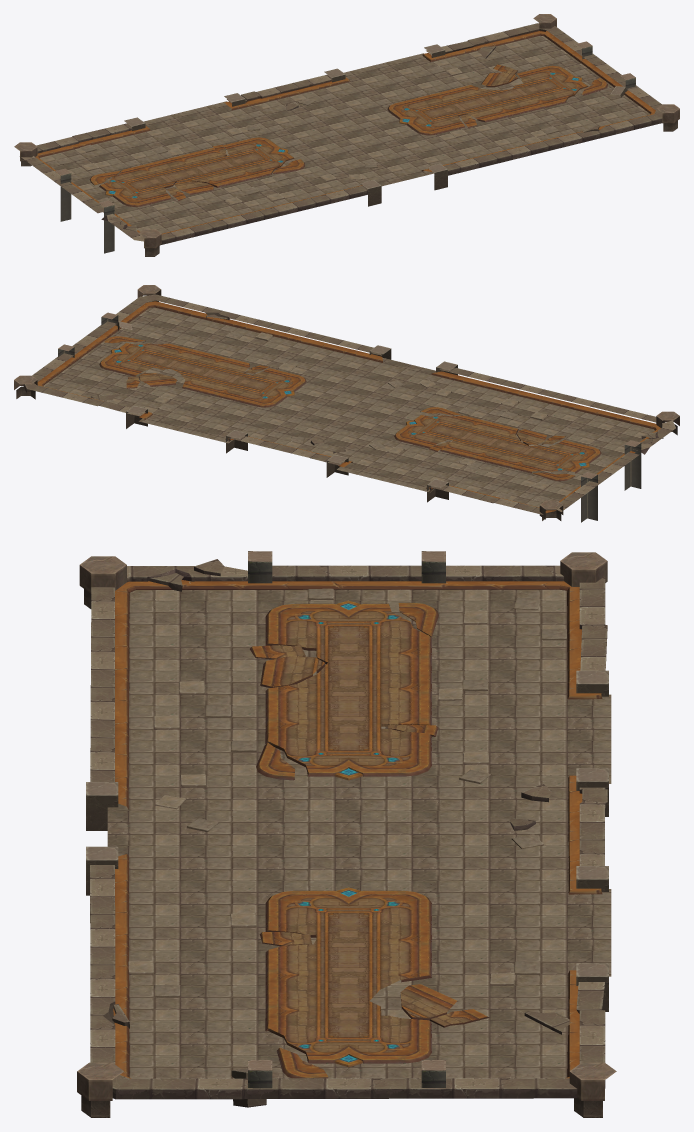
The model's file is terrain_section03_guanka1304.FBX.
3 renders of one model, top to bottom at view 1: azimuth 30°, elevation 25°; view 2: azimuth 150°, elevation 25°; view 3: azimuth 270°, elevation 25°, orthographic. The views are drawn at different scales.
Visible parts, largest first — view 1: terrain_section03_guanka1304; view 2: terrain_section03_guanka1304; view 3: terrain_section03_guanka1304.
Part boxes in pixels (bbox=[...]): terrain_section03_guanka1304: bbox=[14, 14, 679, 256]; terrain_section03_guanka1304: bbox=[14, 285, 679, 522]; terrain_section03_guanka1304: bbox=[77, 551, 616, 1117].
Bounding box in the file's own units: 69.19 × 5.67 × 29.98.
